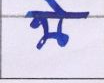e_matra: (32, 0, 68, 11)
